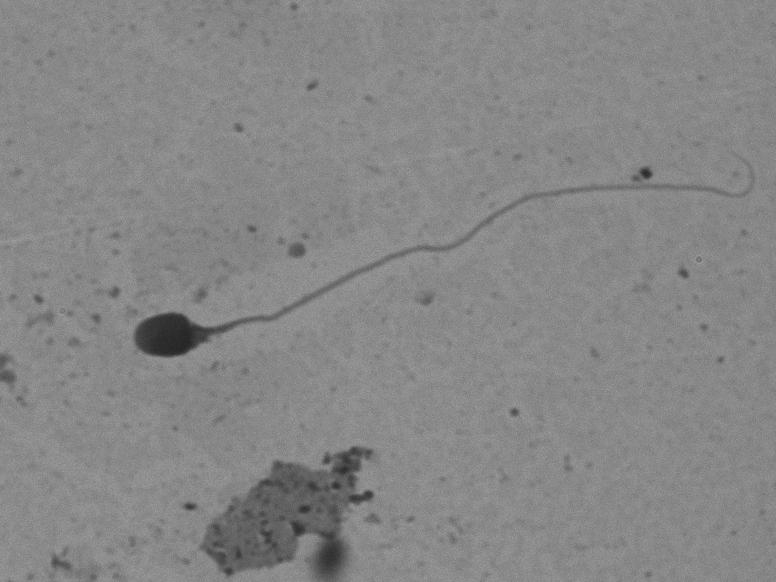Abnormal: (117, 110, 771, 385)
